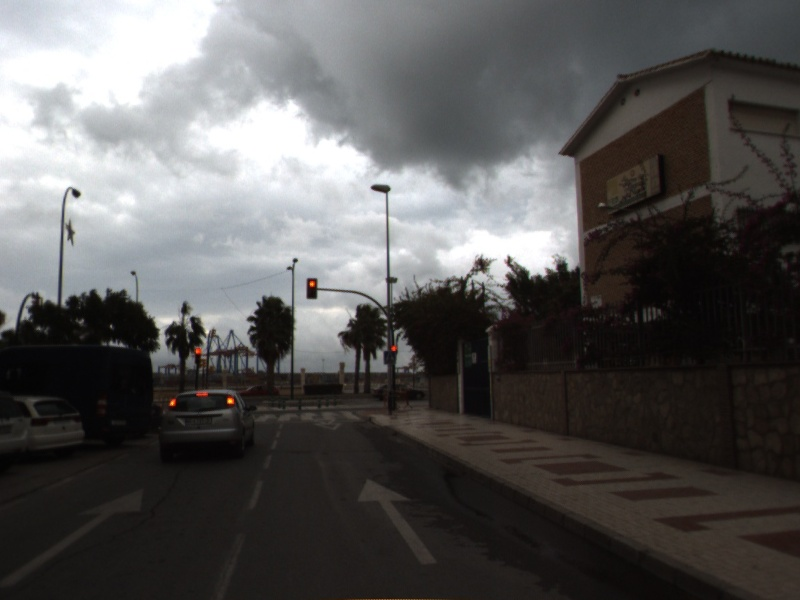STRAIGHT: (1, 484, 146, 588), (355, 475, 444, 566)
